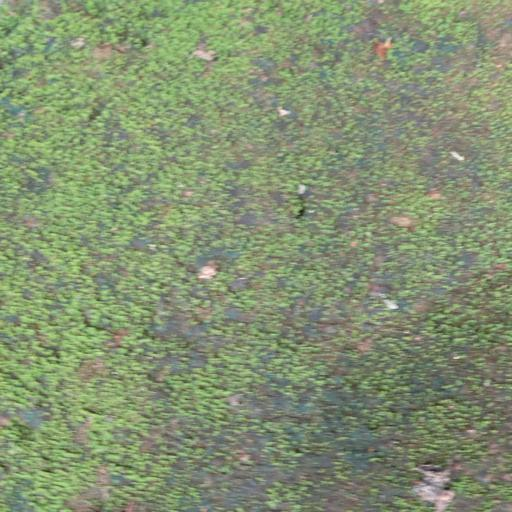algae: (0, 0, 504, 511)
